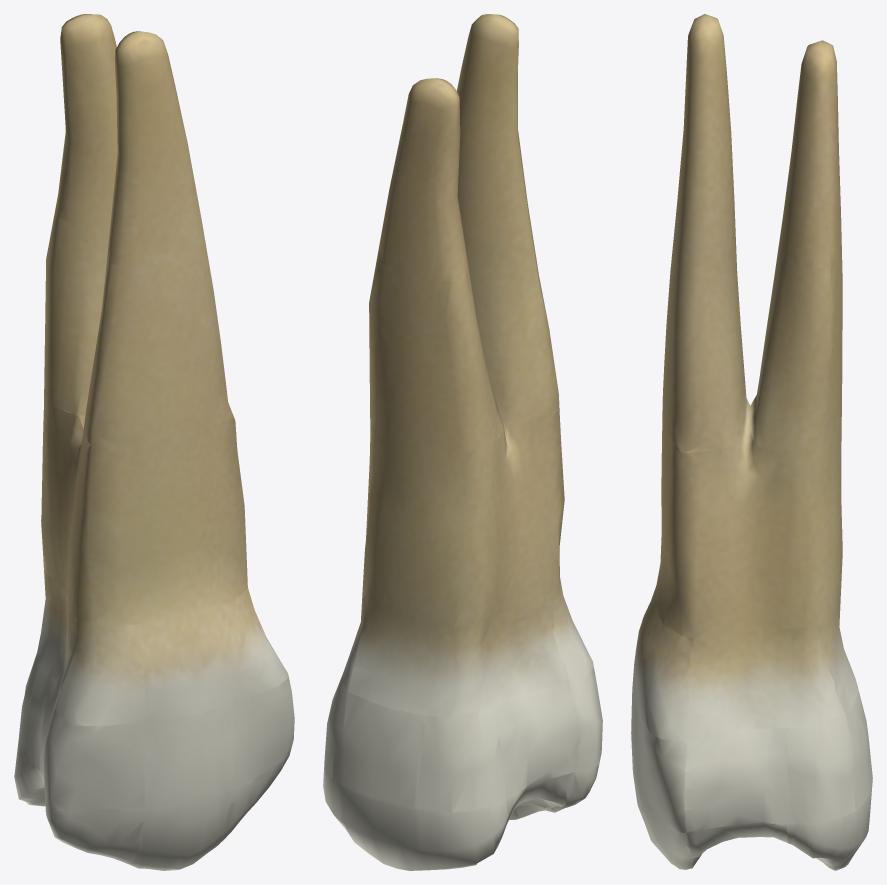
File: Right_Upper_First_Premolar.glb
The picture shows the model from 3 angles, left to right: view 1: azimuth 30°, elevation 25°; view 2: azimuth 150°, elevation 25°; view 3: azimuth 270°, elevation 25°; orthographic projection. The views are drawn at different scales.
Parts seen in each view (by area): view 1: Human_Teeth_Upper_First_Premolar_Geo.029; view 2: Human_Teeth_Upper_First_Premolar_Geo.029; view 3: Human_Teeth_Upper_First_Premolar_Geo.029.
Part boxes in pixels (x1,y1,x2,y2): Human_Teeth_Upper_First_Premolar_Geo.029: [14, 14, 294, 870]; Human_Teeth_Upper_First_Premolar_Geo.029: [323, 14, 602, 870]; Human_Teeth_Upper_First_Premolar_Geo.029: [631, 14, 872, 870].
Size of the model in its own units: 0.9482 by 3.14 by 0.8242.
30 materials, 30 textured.
